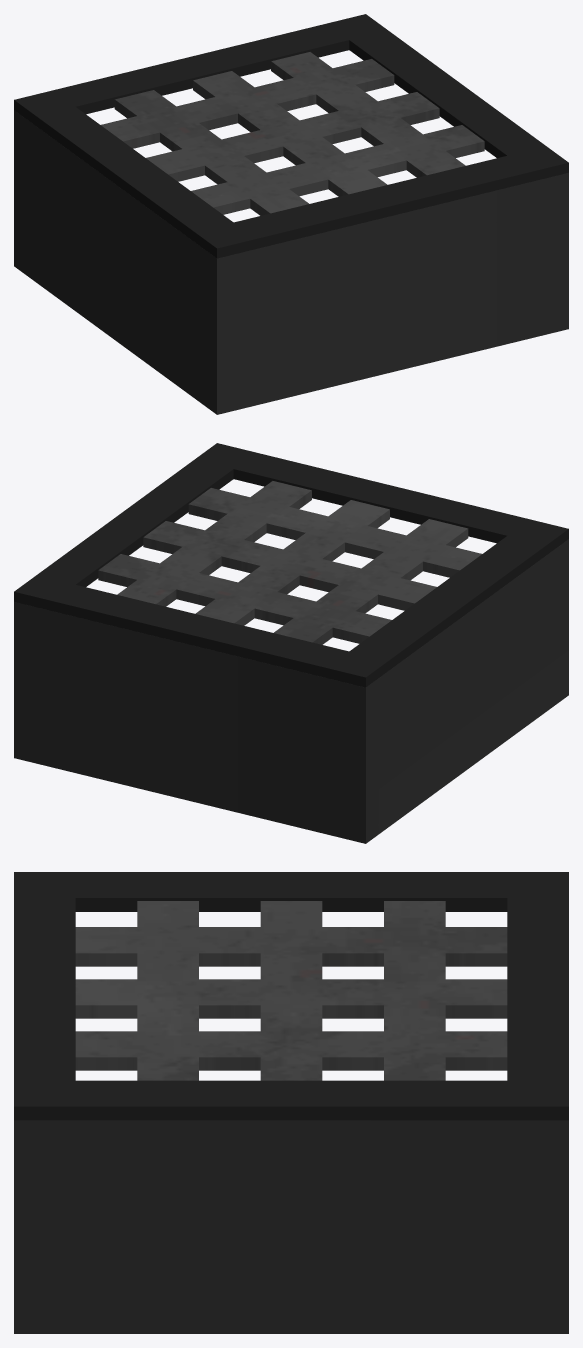
The model's file is smog.glb.
3 views of the same model, one above another, from view 1: azimuth 30°, elevation 25°; view 2: azimuth 150°, elevation 25°; view 3: azimuth 270°, elevation 25° (orthographic). The views are drawn at different scales.
Visible parts, largest first — view 1: b, a; view 2: b, a; view 3: a, b.
Part boxes in pixels (left/top/right/bottom): b: left=14, top=110, right=568, bottom=414; a: left=14, top=14, right=568, bottom=258; b: left=14, top=539, right=568, bottom=843; a: left=14, top=443, right=568, bottom=687; a: left=14, top=872, right=568, bottom=1120; b: left=14, top=1120, right=568, bottom=1333.
Size of the model in its own units: 100 by 45.19 by 100.
2 materials, 2 textured.
